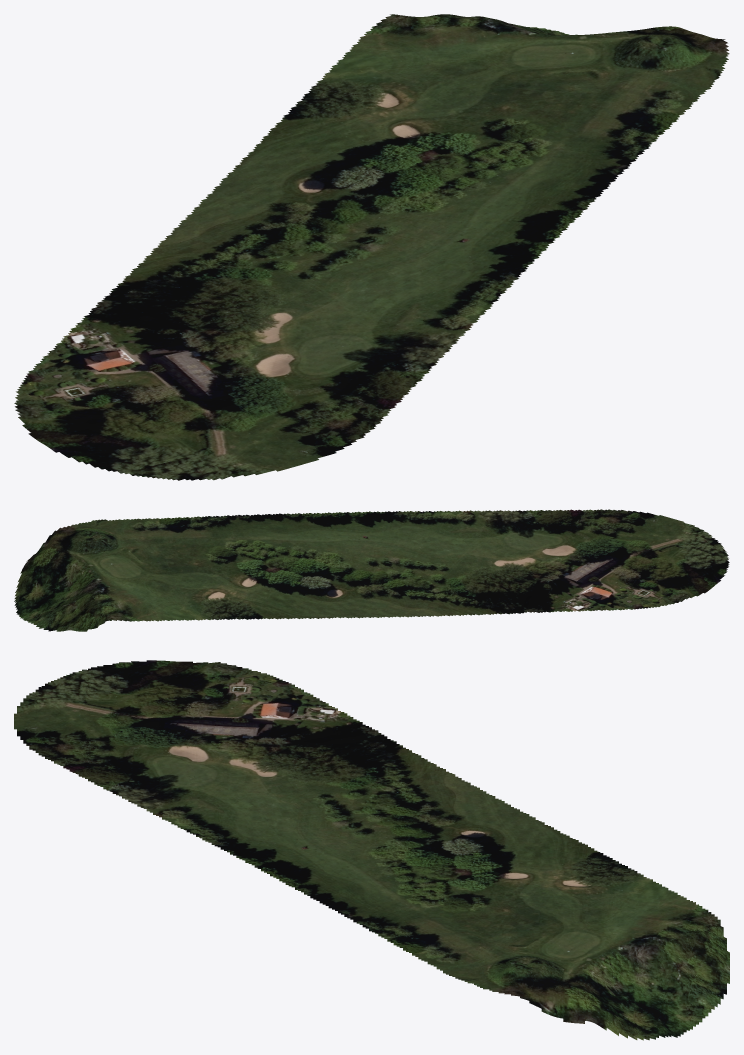
File: stibb_1.glb
3 renders of one model, top to bottom at view 1: azimuth 30°, elevation 25°; view 2: azimuth 150°, elevation 25°; view 3: azimuth 270°, elevation 25°, orthographic. The views are drawn at different scales.
Visible parts, largest first — view 1: ground; view 2: ground; view 3: ground.
Part boxes in pixels (x1,y1,x2,y2): ground: (14,14,729,480); ground: (14,509,729,631); ground: (14,660,729,1040).
Bounding box in the file's own units: 281 × 21.61 × 232.
Materials: 1 (1 with a texture image).
